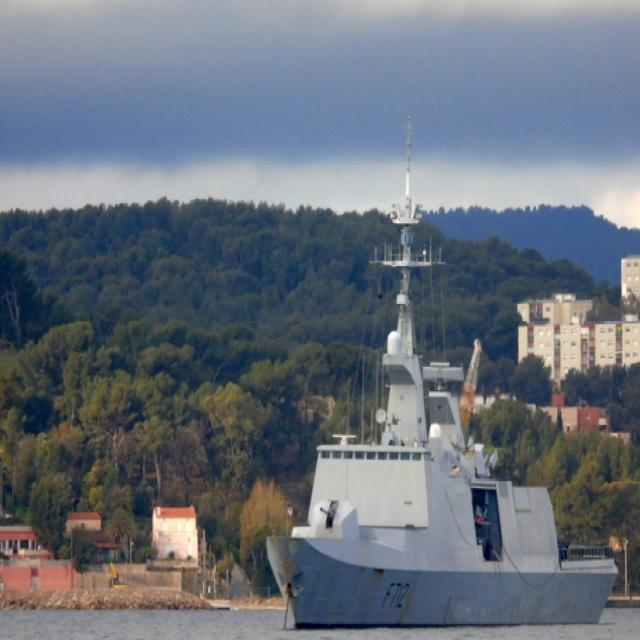Fragata: (260, 101, 626, 640)
